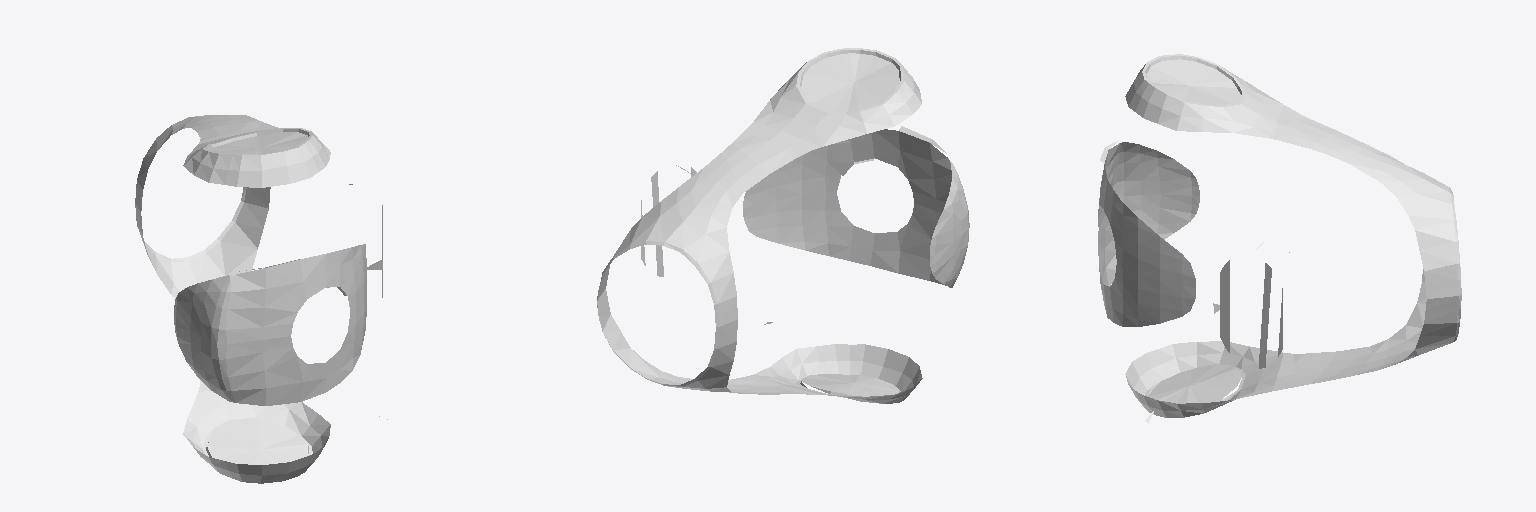
File: Torso_0.obj
The picture shows the model from 3 angles: view 1: azimuth 30°, elevation 25°; view 2: azimuth 150°, elevation 25°; view 3: azimuth 270°, elevation 25°; orthographic projection.
Size of the model in its own units: 0.2384 by 0.2994 by 0.2989.